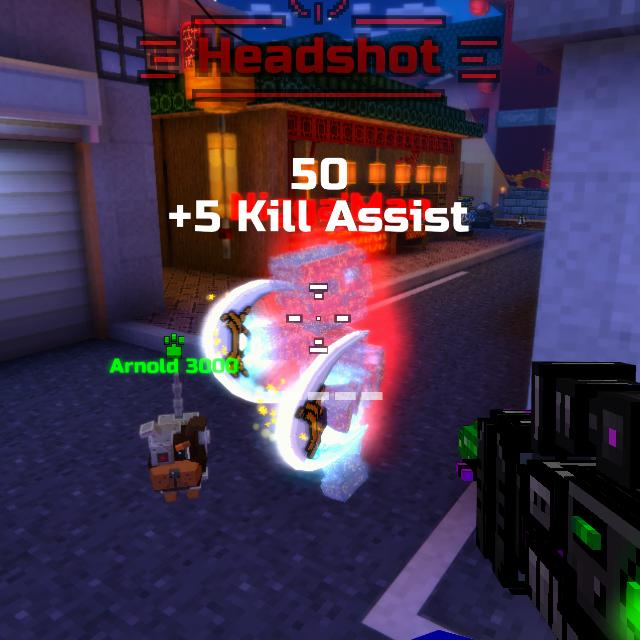Enemy: (243, 249, 384, 496)
